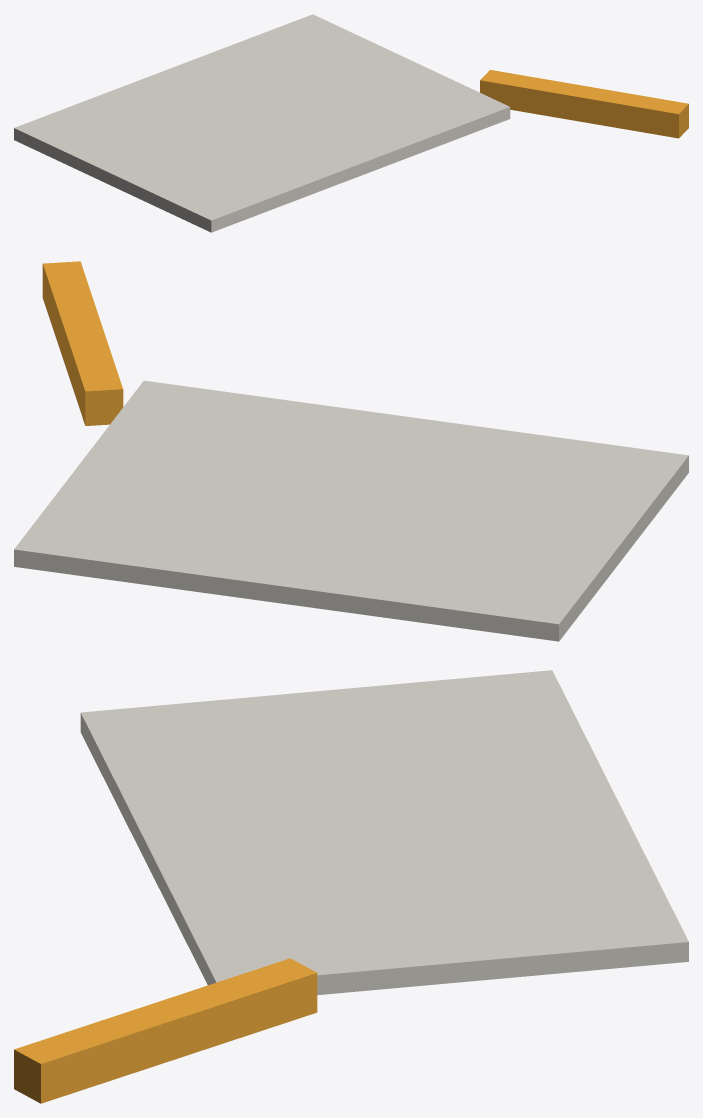
File: station_intake_1.glb
The picture shows the model from 3 angles, top to bottom: view 1: azimuth 30°, elevation 25°; view 2: azimuth 150°, elevation 25°; view 3: azimuth 270°, elevation 25°; orthographic projection. The views are drawn at different scales.
Visible parts, largest first — view 1: zettel, stift; view 2: zettel, stift; view 3: zettel, stift.
Part boxes in pixels (bbox=[...]): zettel: bbox=[14, 14, 510, 232]; stift: bbox=[480, 70, 688, 138]; zettel: bbox=[14, 380, 688, 641]; stift: bbox=[42, 261, 123, 425]; zettel: bbox=[80, 670, 688, 995]; stift: bbox=[14, 958, 317, 1103].
Bounding box in the file's own units: 0.4467 × 0.02 × 0.308.
